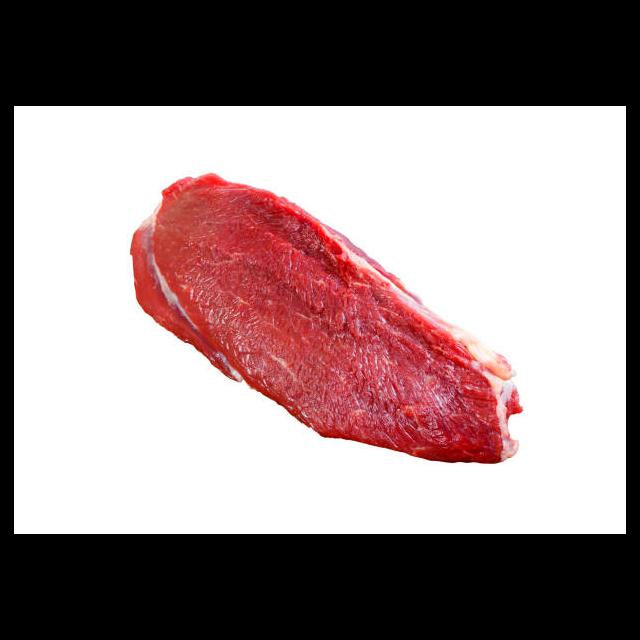beef: (128, 173, 523, 466)
